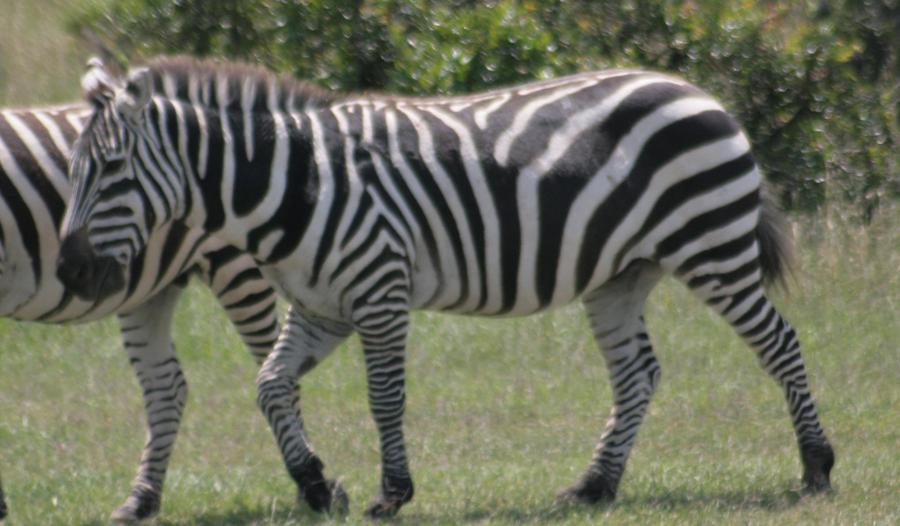zebra_plains: (248, 67, 771, 318)
